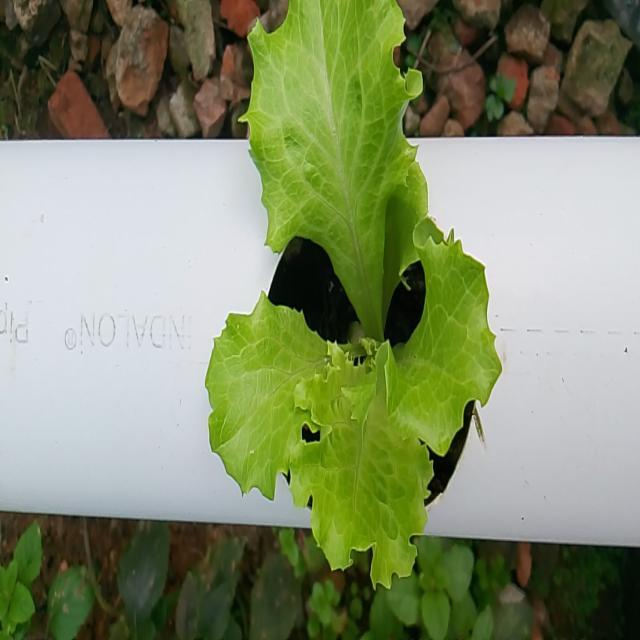Baby: (204, 0, 501, 603)
